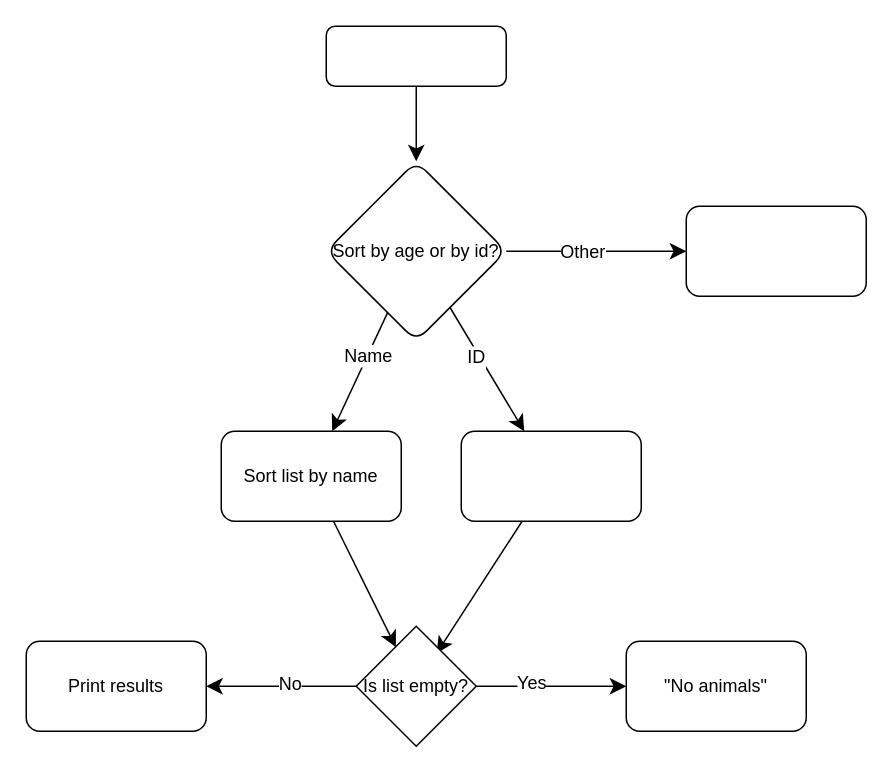
Image size: 893x773. Some labels were removed from this diagram. The centre of each missing label's shape, as x and y in pixels:
"Invalid sorting option": (775,250)
Sort list by ID: (550,475)
Start: (415,55)
